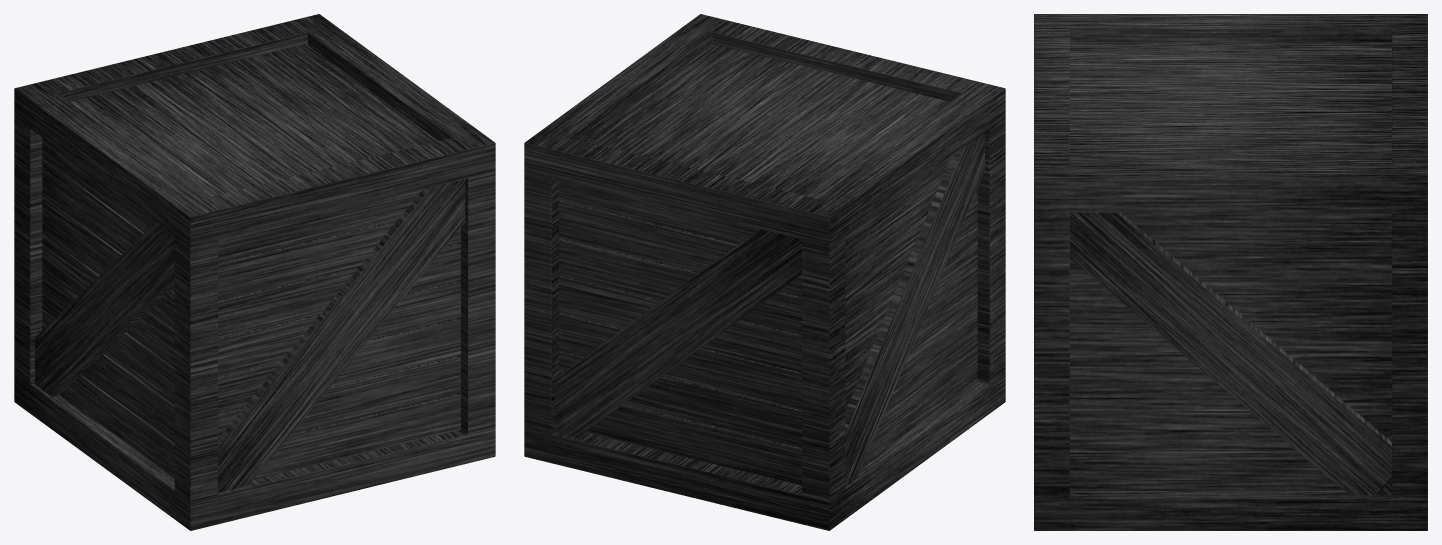
The model's file is DarkCrate.FBX.
The picture shows the model from 3 angles, left to right: view 1: azimuth 30°, elevation 25°; view 2: azimuth 150°, elevation 25°; view 3: azimuth 270°, elevation 25°; orthographic projection. The views are drawn at different scales.
Parts seen in each view (by area): view 1: Box08; view 2: Box08; view 3: Box08.
Boxes of the visible parts, x1,y1,x2,y2 form: Box08: (14,14,495,530); Box08: (524,14,1005,530); Box08: (1034,14,1427,530).
Size of the model in its own units: 74.6 by 73.31 by 74.6.
2 materials, 2 textured.
